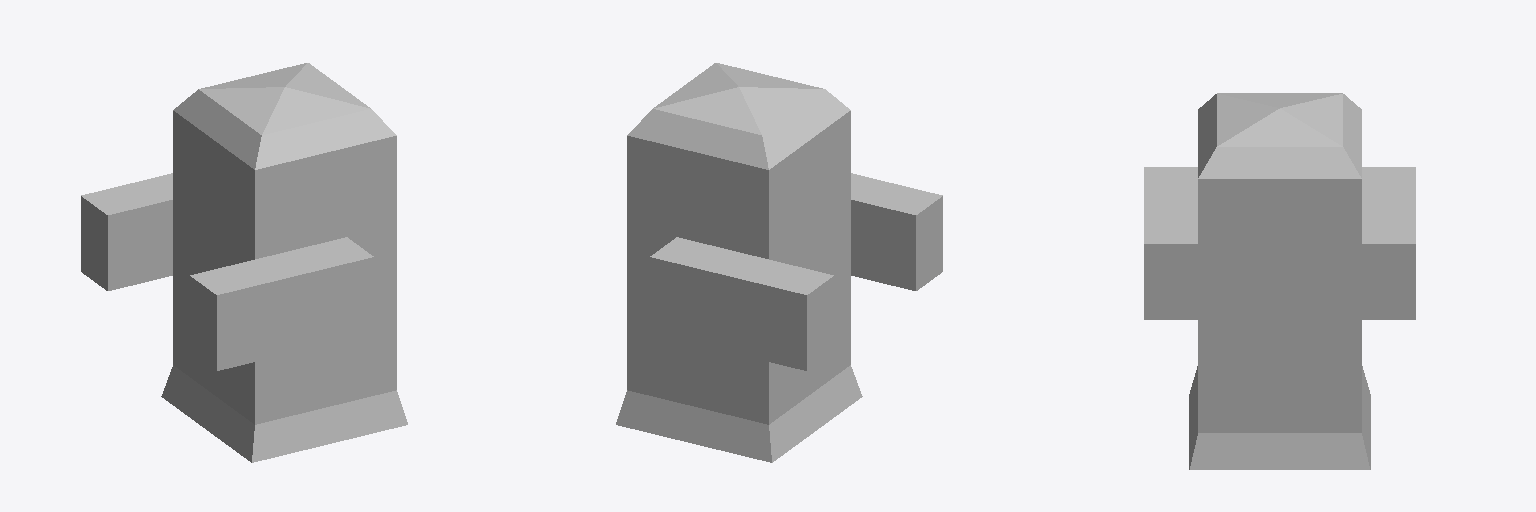
The model's file is ghost 2.obj.
3 views of the same model, side by side, from view 1: azimuth 30°, elevation 25°; view 2: azimuth 150°, elevation 25°; view 3: azimuth 270°, elevation 25° (orthographic).
Parts seen in each view (by area): view 1: Cube; view 2: Cube; view 3: Cube.
Boxes of the visible parts, <box> form: Cube: <box>81,63,407,462</box>; Cube: <box>616,63,942,462</box>; Cube: <box>1144,93,1415,469</box>.
Bounding box in the file's own units: 3.03 × 4.36 × 3.33.